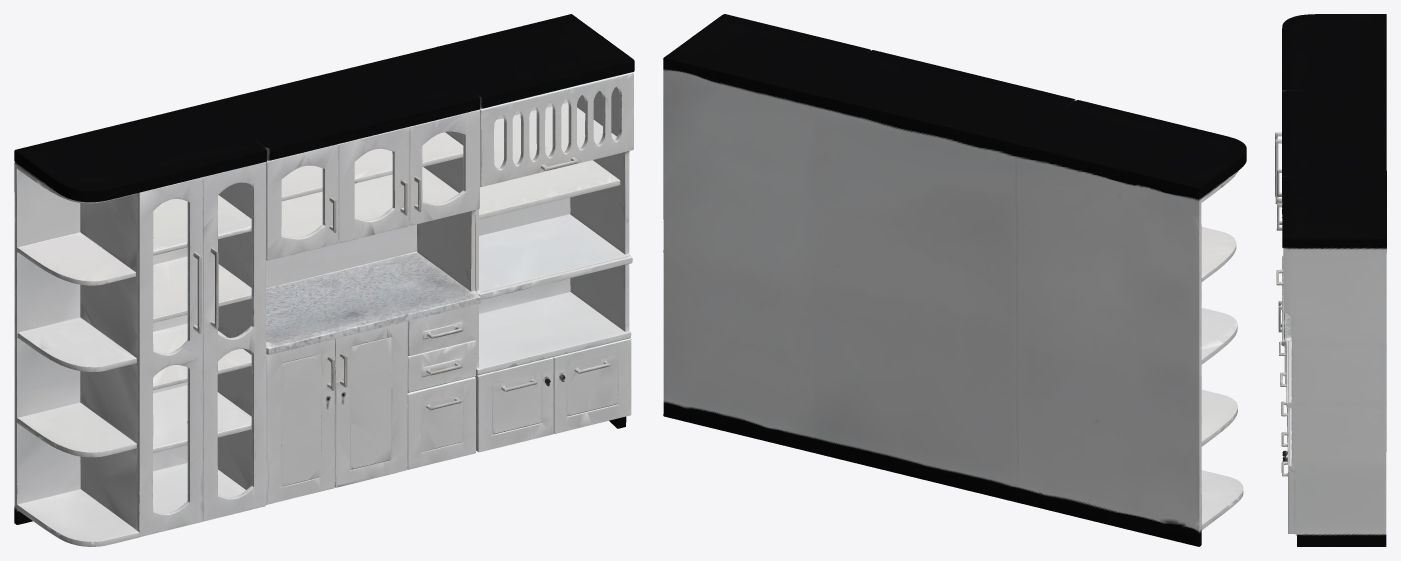
The model's file is kitchen-unit.glb.
The picture shows the model from 3 angles, left to right: view 1: azimuth 30°, elevation 25°; view 2: azimuth 150°, elevation 25°; view 3: azimuth 270°, elevation 25°; orthographic projection. The views are drawn at different scales.
Parts seen in each view (by area): view 1: model; view 2: model; view 3: model.
Part boxes in pixels (x1=…): model: x1=14, y1=14, x2=634, y2=546; model: x1=663, y1=14, x2=1246, y2=546; model: x1=1275, y1=14, x2=1386, y2=546.
Bounding box in the file's own units: 1.9 × 1.22 × 0.4004.
Materials: 1 (1 with a texture image).
